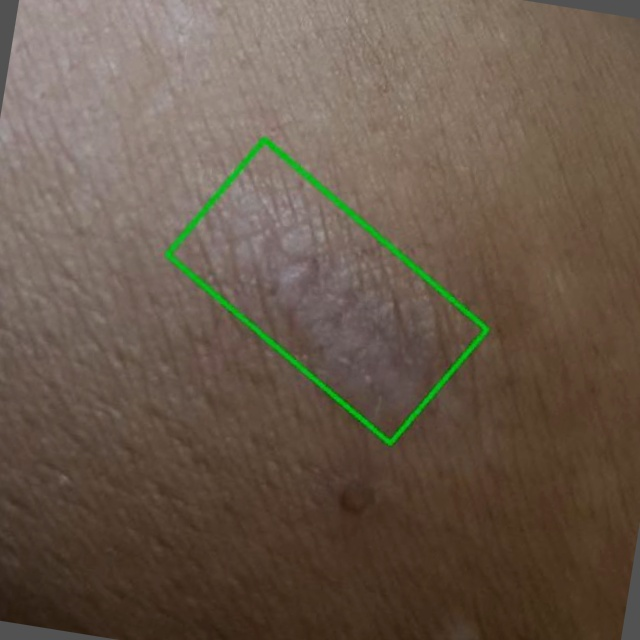Atopic Dermatitis: (167, 140, 487, 444)
